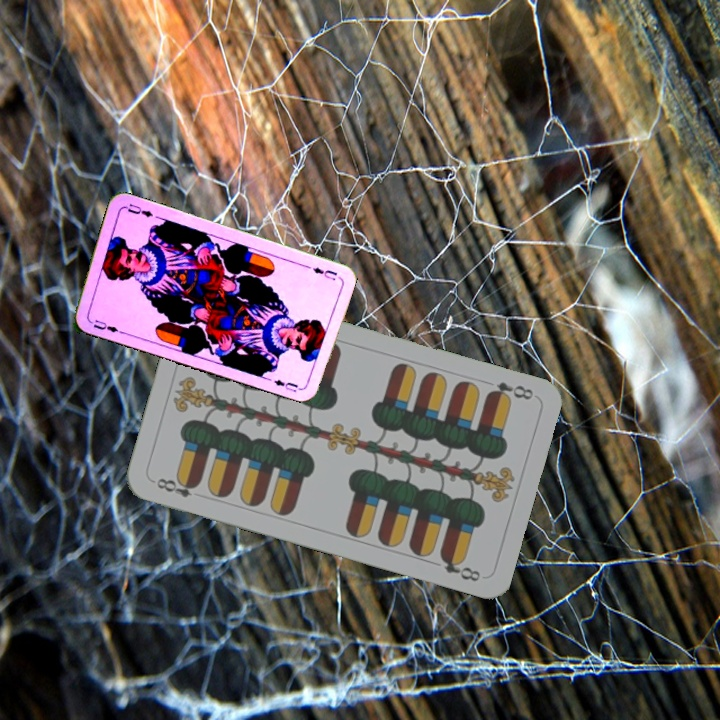E8: (149, 473, 202, 501), (482, 377, 536, 404)
EU: (89, 315, 126, 336), (309, 263, 340, 282)
